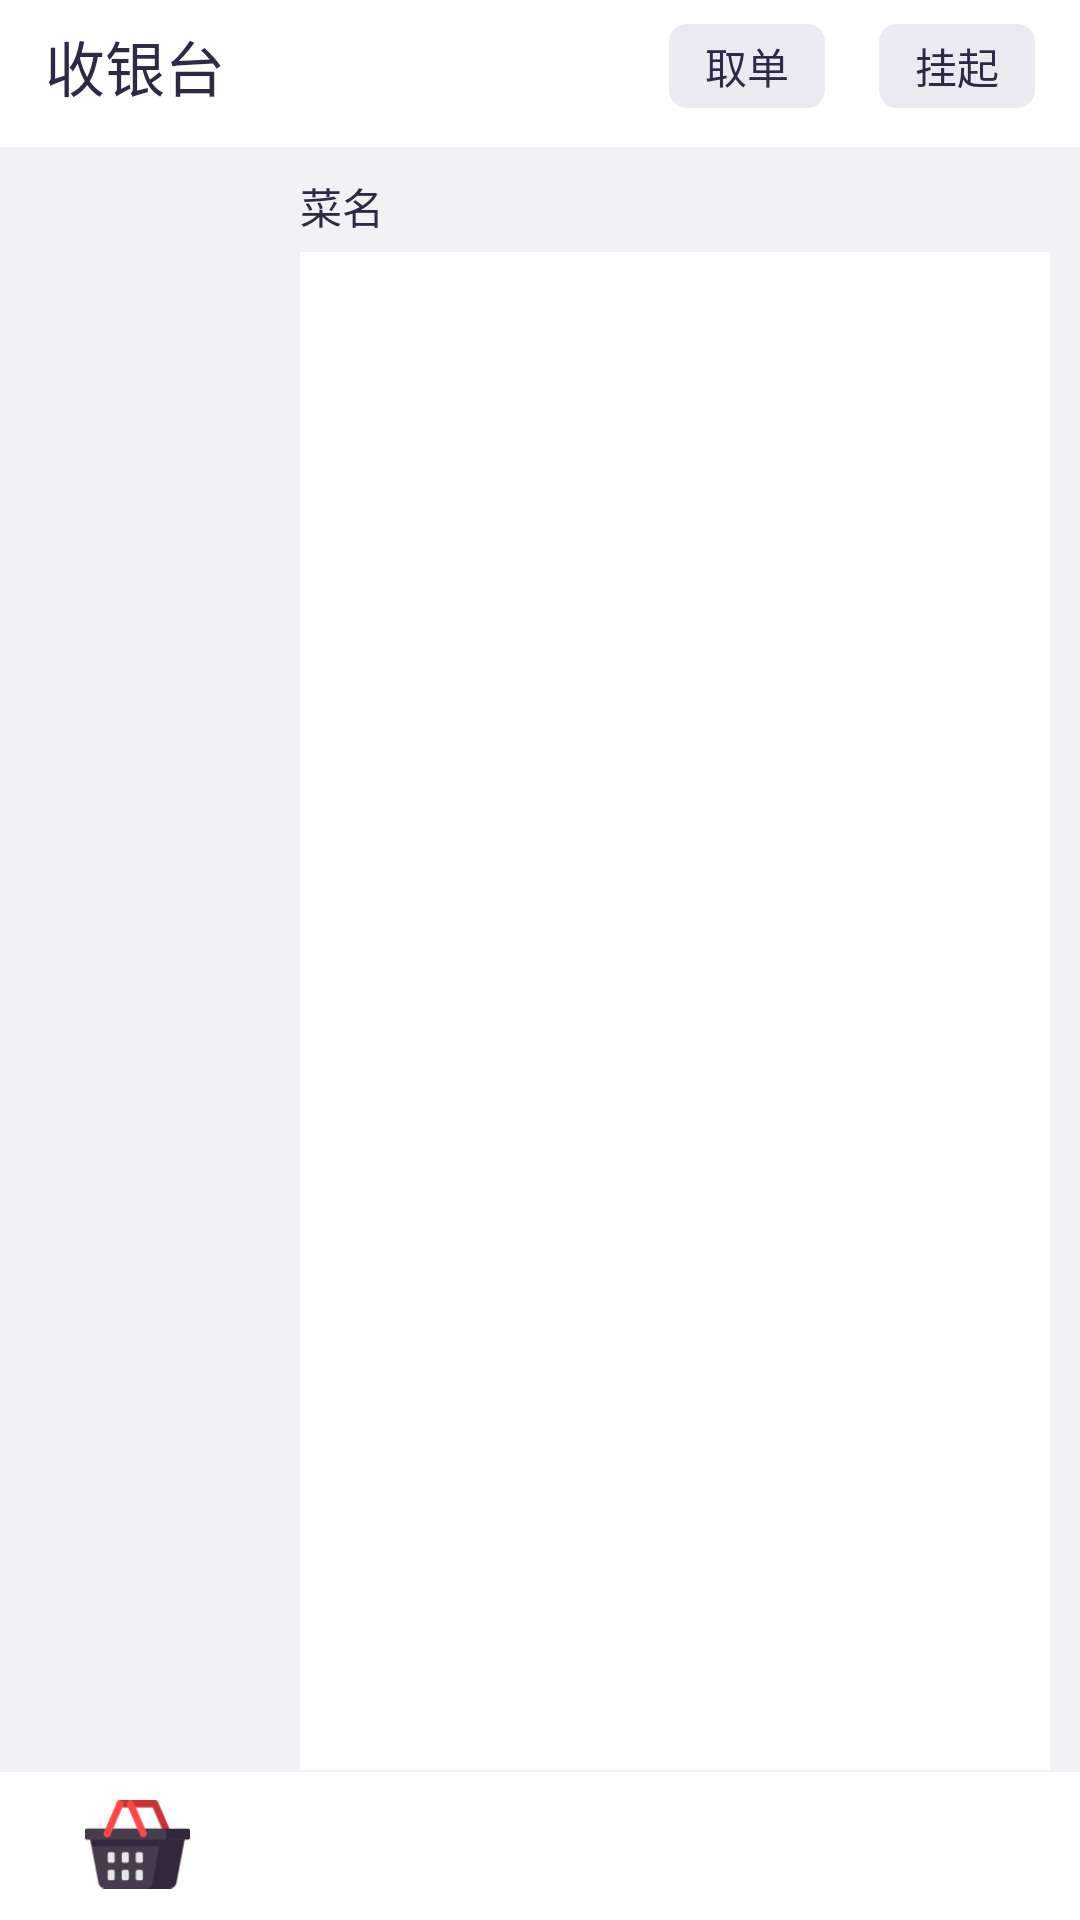

Icon bounding boxes for this 1080 × 1920 phone screenshot, format [x1=x1, y1=y1, x2=x2, y2=y2]:
shopping basket: [x1=85, y1=1800, x2=190, y2=1889]
